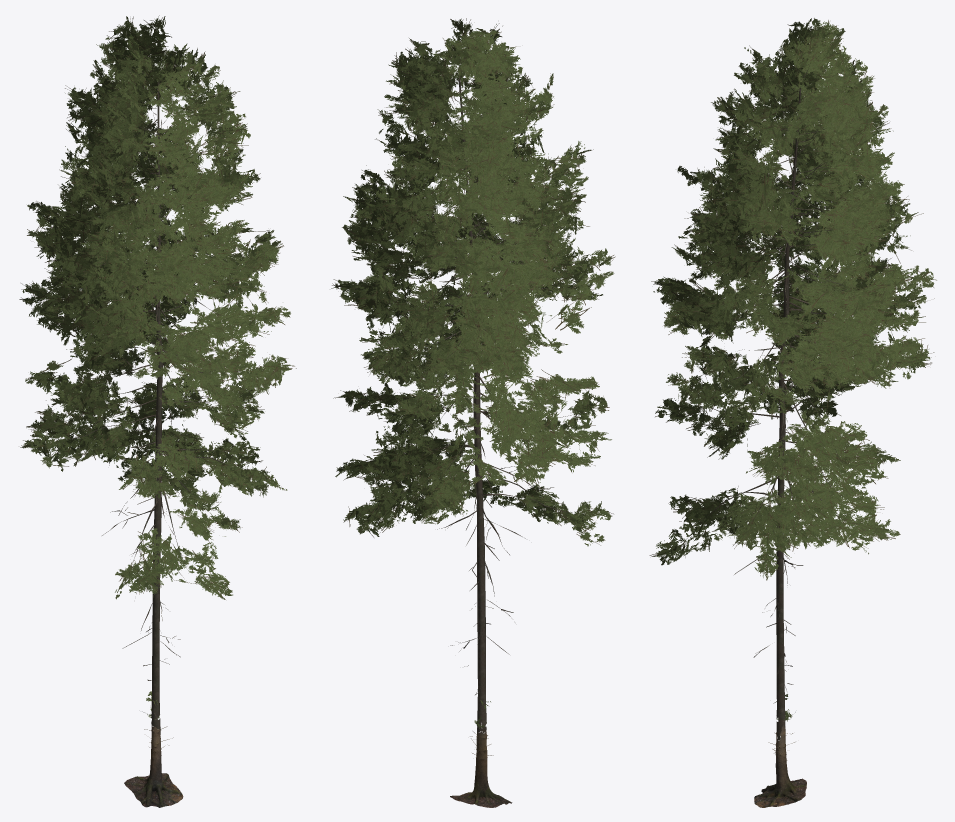
3 renders of one model, left to right at view 1: azimuth 30°, elevation 25°; view 2: azimuth 150°, elevation 25°; view 3: azimuth 270°, elevation 25°, orthographic. The views are drawn at different scales.
Parts seen in each view (by area): view 1: fir_tree_01__a_lod0; view 2: fir_tree_01__a_lod0; view 3: fir_tree_01__a_lod0.
Part boxes in pixels (x1,y1,x2,y2): fir_tree_01__a_lod0: [19, 15, 296, 807]; fir_tree_01__a_lod0: [331, 18, 615, 807]; fir_tree_01__a_lod0: [649, 18, 936, 807].
Size of the model in its own units: 6.61 by 18.98 by 6.48.
3 materials, 3 textured.
